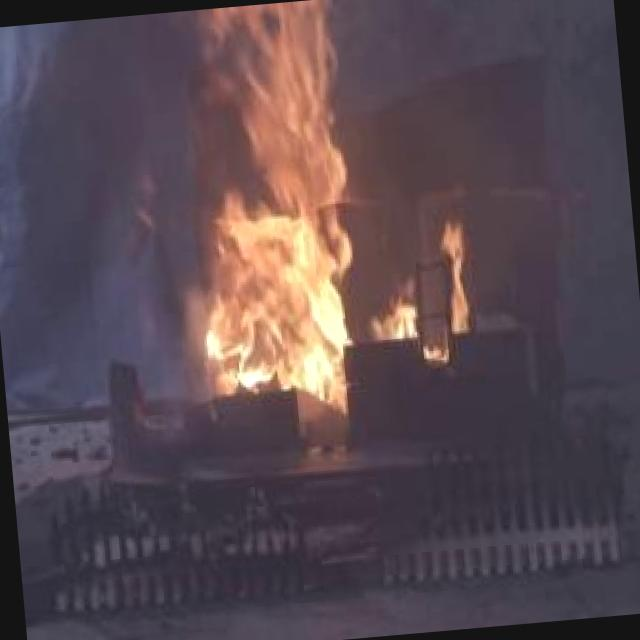fire: (138, 0, 387, 415)
